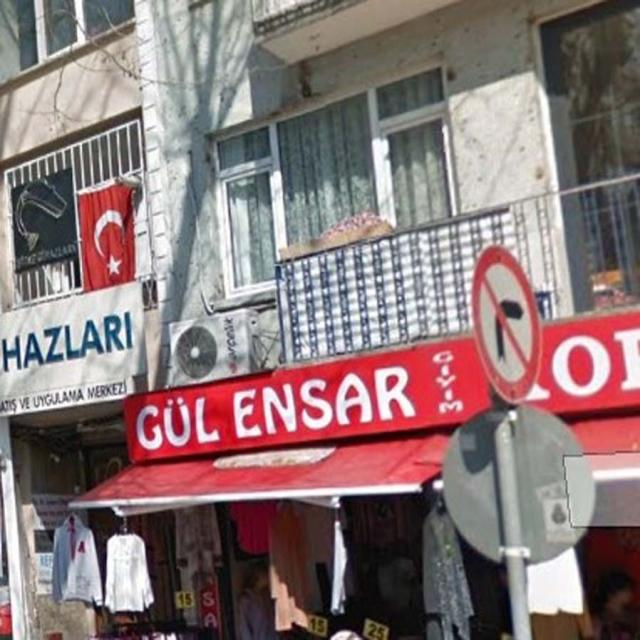sagadonulmez: (472, 245, 542, 403)
